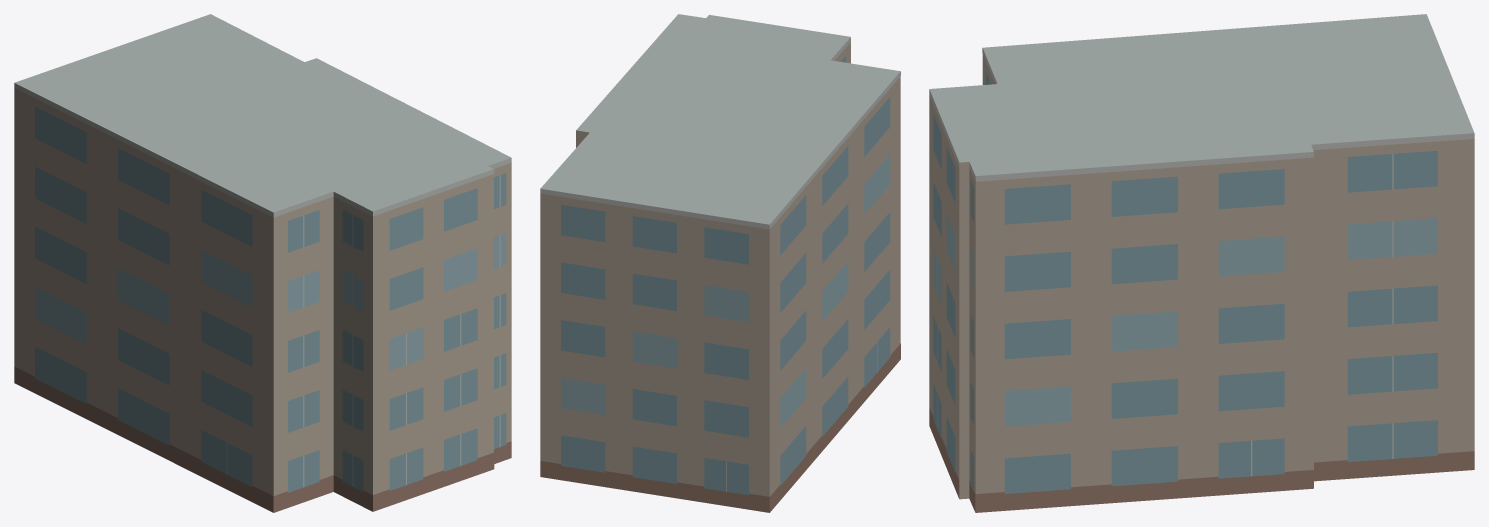
Rendered from survey-upis-32716262.glb.
3 views of the same model, side by side, from view 1: azimuth 30°, elevation 25°; view 2: azimuth 150°, elevation 25°; view 3: azimuth 270°, elevation 25° (orthographic). The views are drawn at different scales.
Parts seen in each view (by area): view 1: survey-upis-32716262.tmp; view 2: survey-upis-32716262.tmp; view 3: survey-upis-32716262.tmp.
Boxes of the visible parts, left/top/right/bottom form: survey-upis-32716262.tmp: left=14, top=14, right=511, bottom=512; survey-upis-32716262.tmp: left=540, top=14, right=900, bottom=512; survey-upis-32716262.tmp: left=929, top=14, right=1474, bottom=512.
Size of the model in its own units: 15.09 by 14.6 by 21.43.
